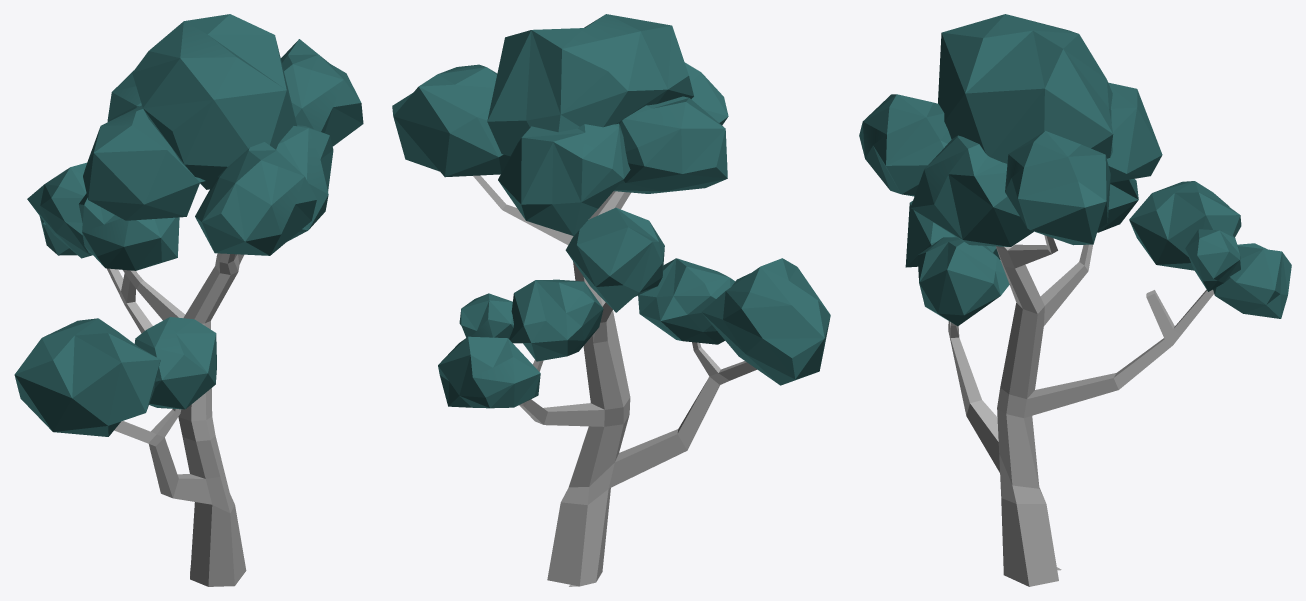
Rendered from fbTree5.fbx.
3 renders of one model, left to right at view 1: azimuth 30°, elevation 25°; view 2: azimuth 150°, elevation 25°; view 3: azimuth 270°, elevation 25°, orthographic.
Parts seen in each view (by area): view 1: fbTreeCedar2; view 2: fbTreeCedar2; view 3: fbTreeCedar2.
Part boxes in pixels (box(x1,y1,x2,y2)): fbTreeCedar2: box(14, 14, 363, 586); fbTreeCedar2: box(392, 14, 830, 586); fbTreeCedar2: box(859, 14, 1291, 586).
Bounding box in the file's own units: 180 × 246 × 179.
